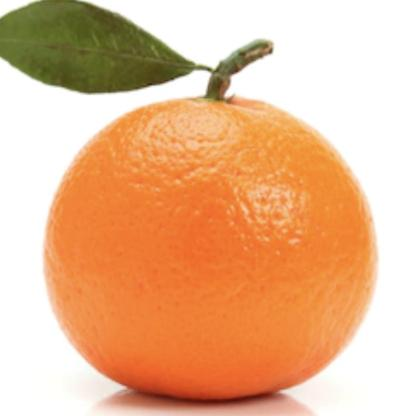fresh: (41, 81, 380, 403)
